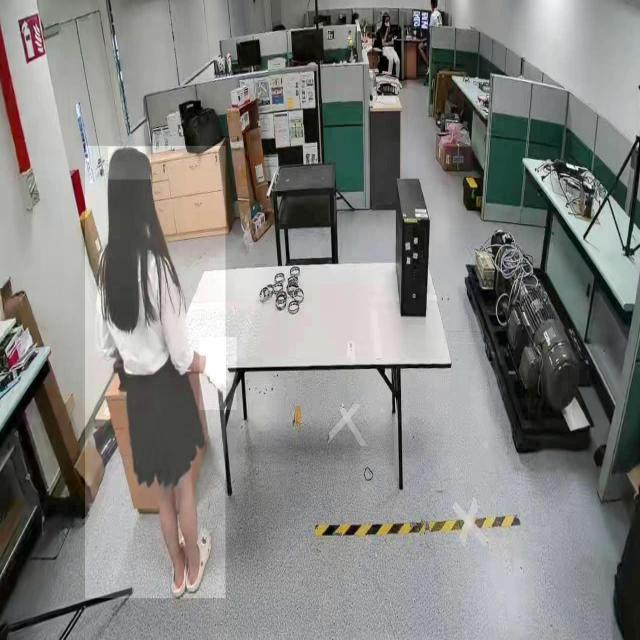gloves: (199, 337, 237, 411)
